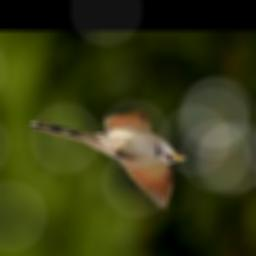Cuckoo: (31, 114, 187, 210)
